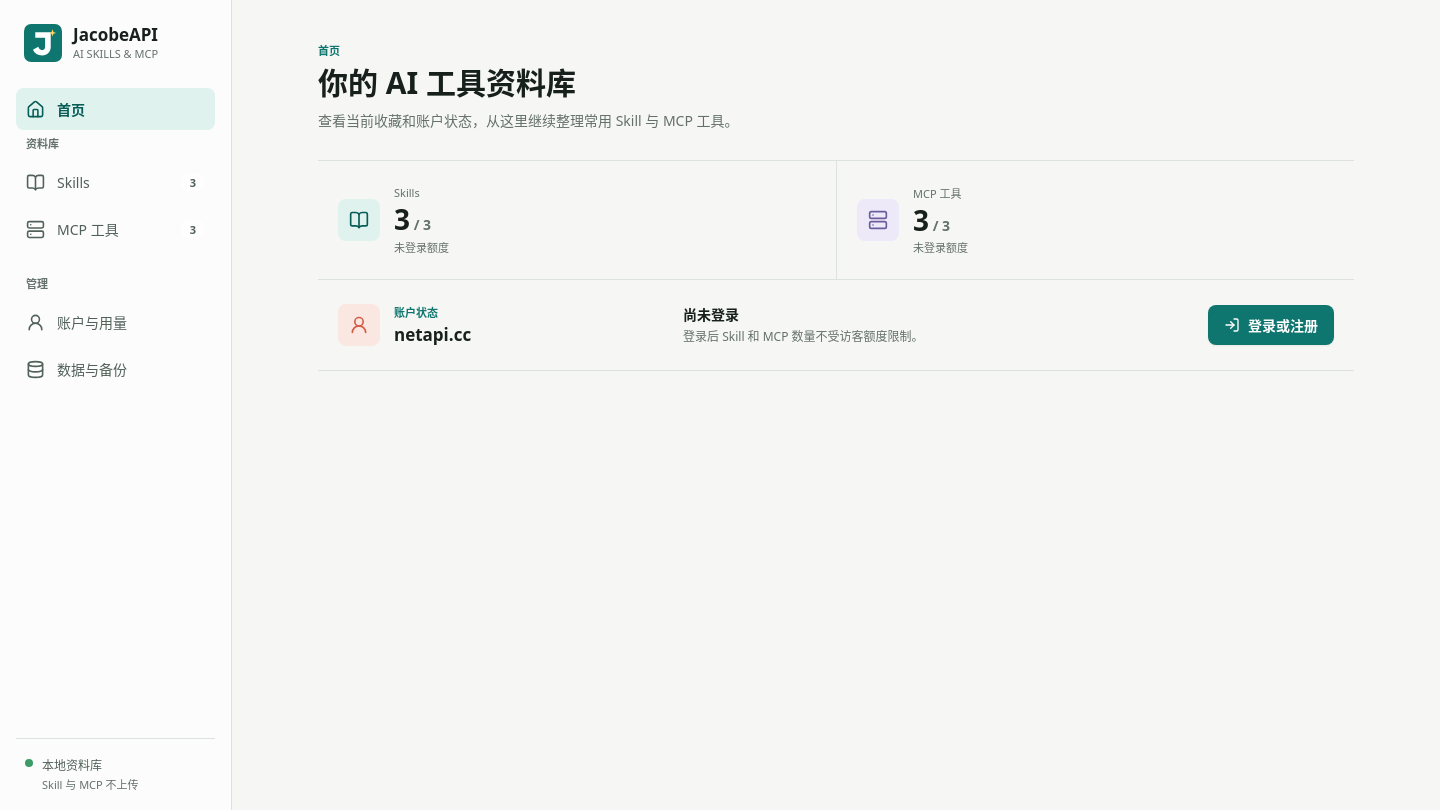
it: ManagerApp desktop home and guest access › keeps the editor closed and shows a keyboard dialog at the guest limit
The image size is (1440, 810).
Click the button "Skills 3": {"x": 116, "y": 182} x1=16 y1=161 x2=215 y2=203
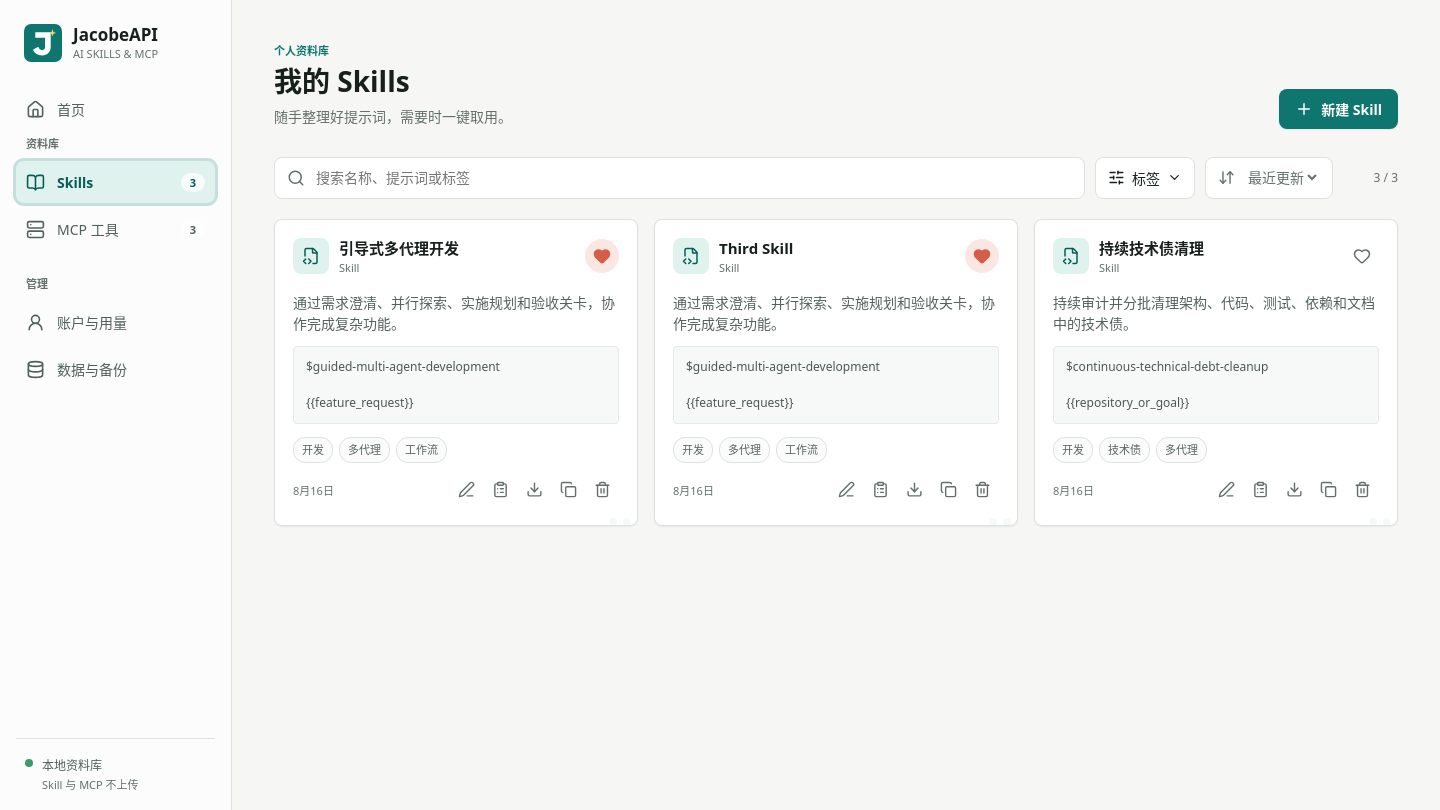
Click the button "新建 Skill": {"x": 1339, "y": 108} x1=1279 y1=88 x2=1398 y2=128
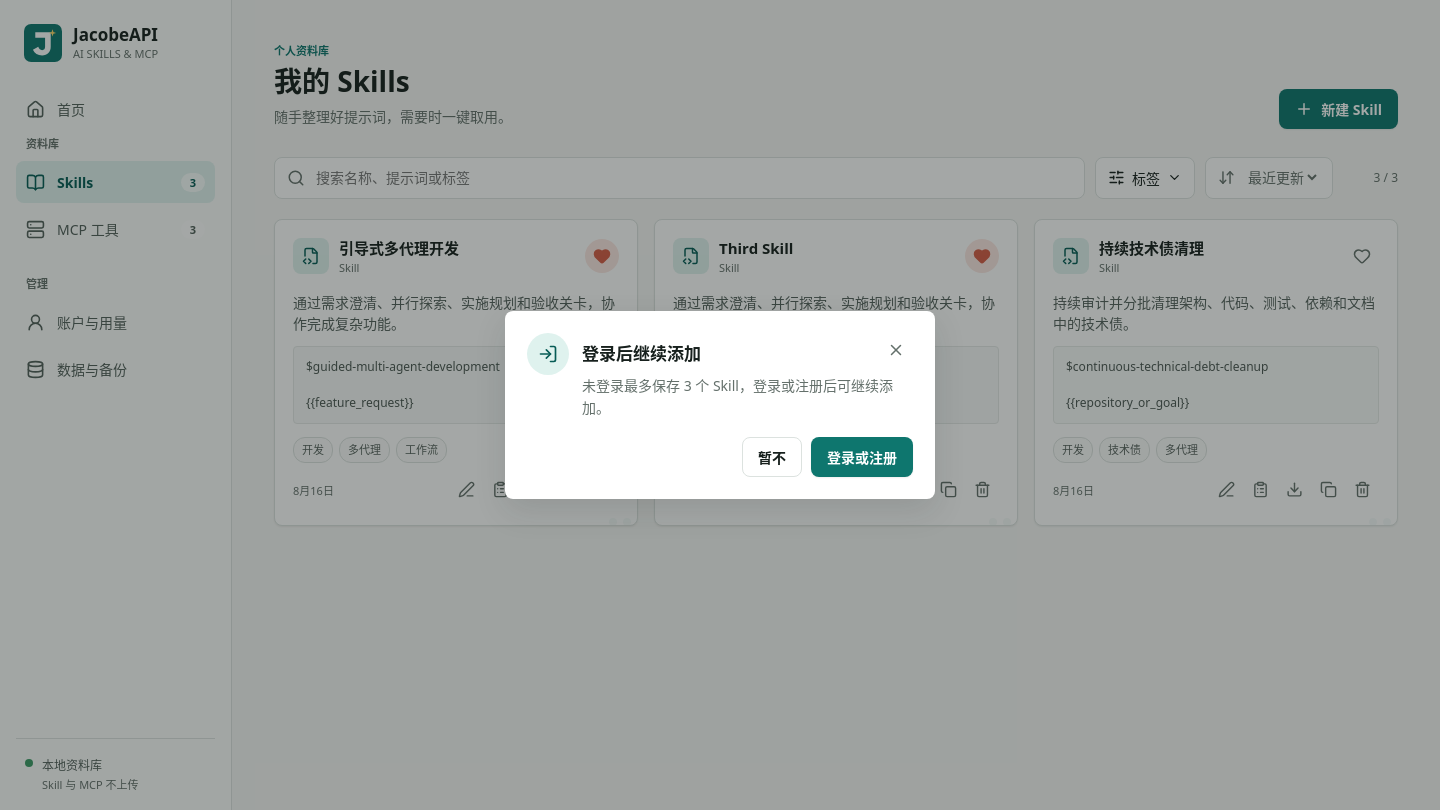
Expected: the dialog "登录后继续添加" shows "最多保存 3 个 Skill", x1=582 y1=376 x2=893 y2=416
